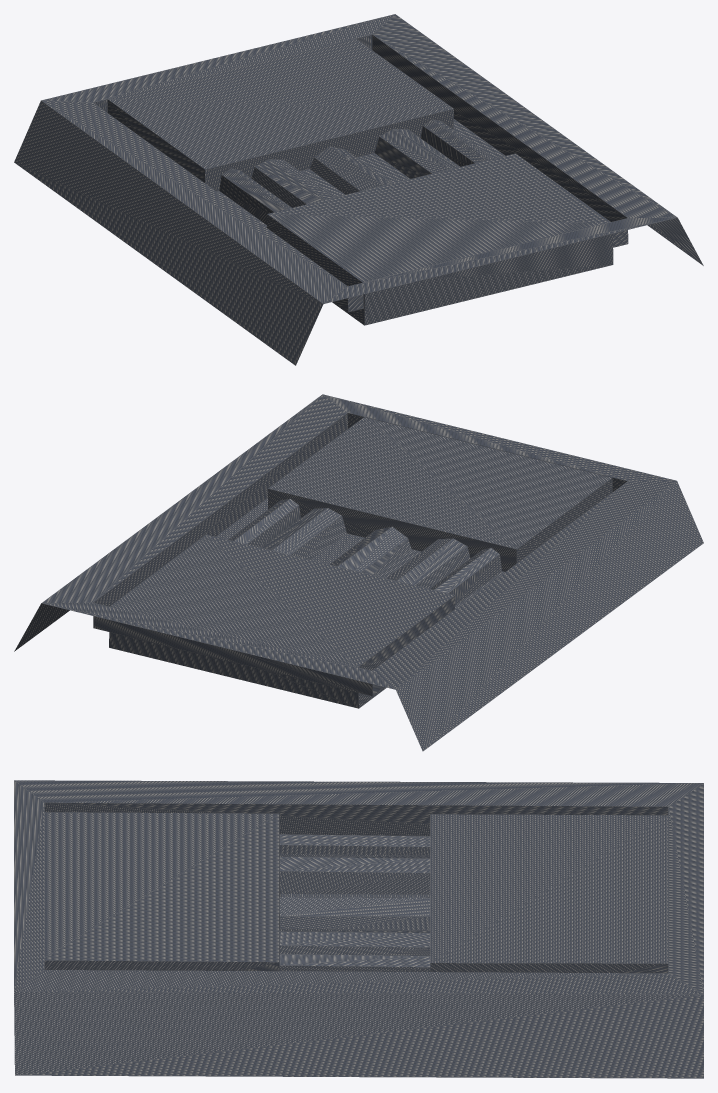
File: Machinery-AirConB.fbx
3 views of the same model, one above another, from view 1: azimuth 30°, elevation 25°; view 2: azimuth 150°, elevation 25°; view 3: azimuth 270°, elevation 25° (orthographic). The views are drawn at different scales.
Parts seen in each view (by area): view 1: north:polySurface8661; view 2: north:polySurface8661; view 3: north:polySurface8661.
Part boxes in pixels (x1,y1,x2,y2): north:polySurface8661: (14, 14, 703, 365); north:polySurface8661: (14, 394, 703, 751); north:polySurface8661: (14, 780, 703, 1078).
Size of the model in its own units: 1.69 by 0.2283 by 2.02.
